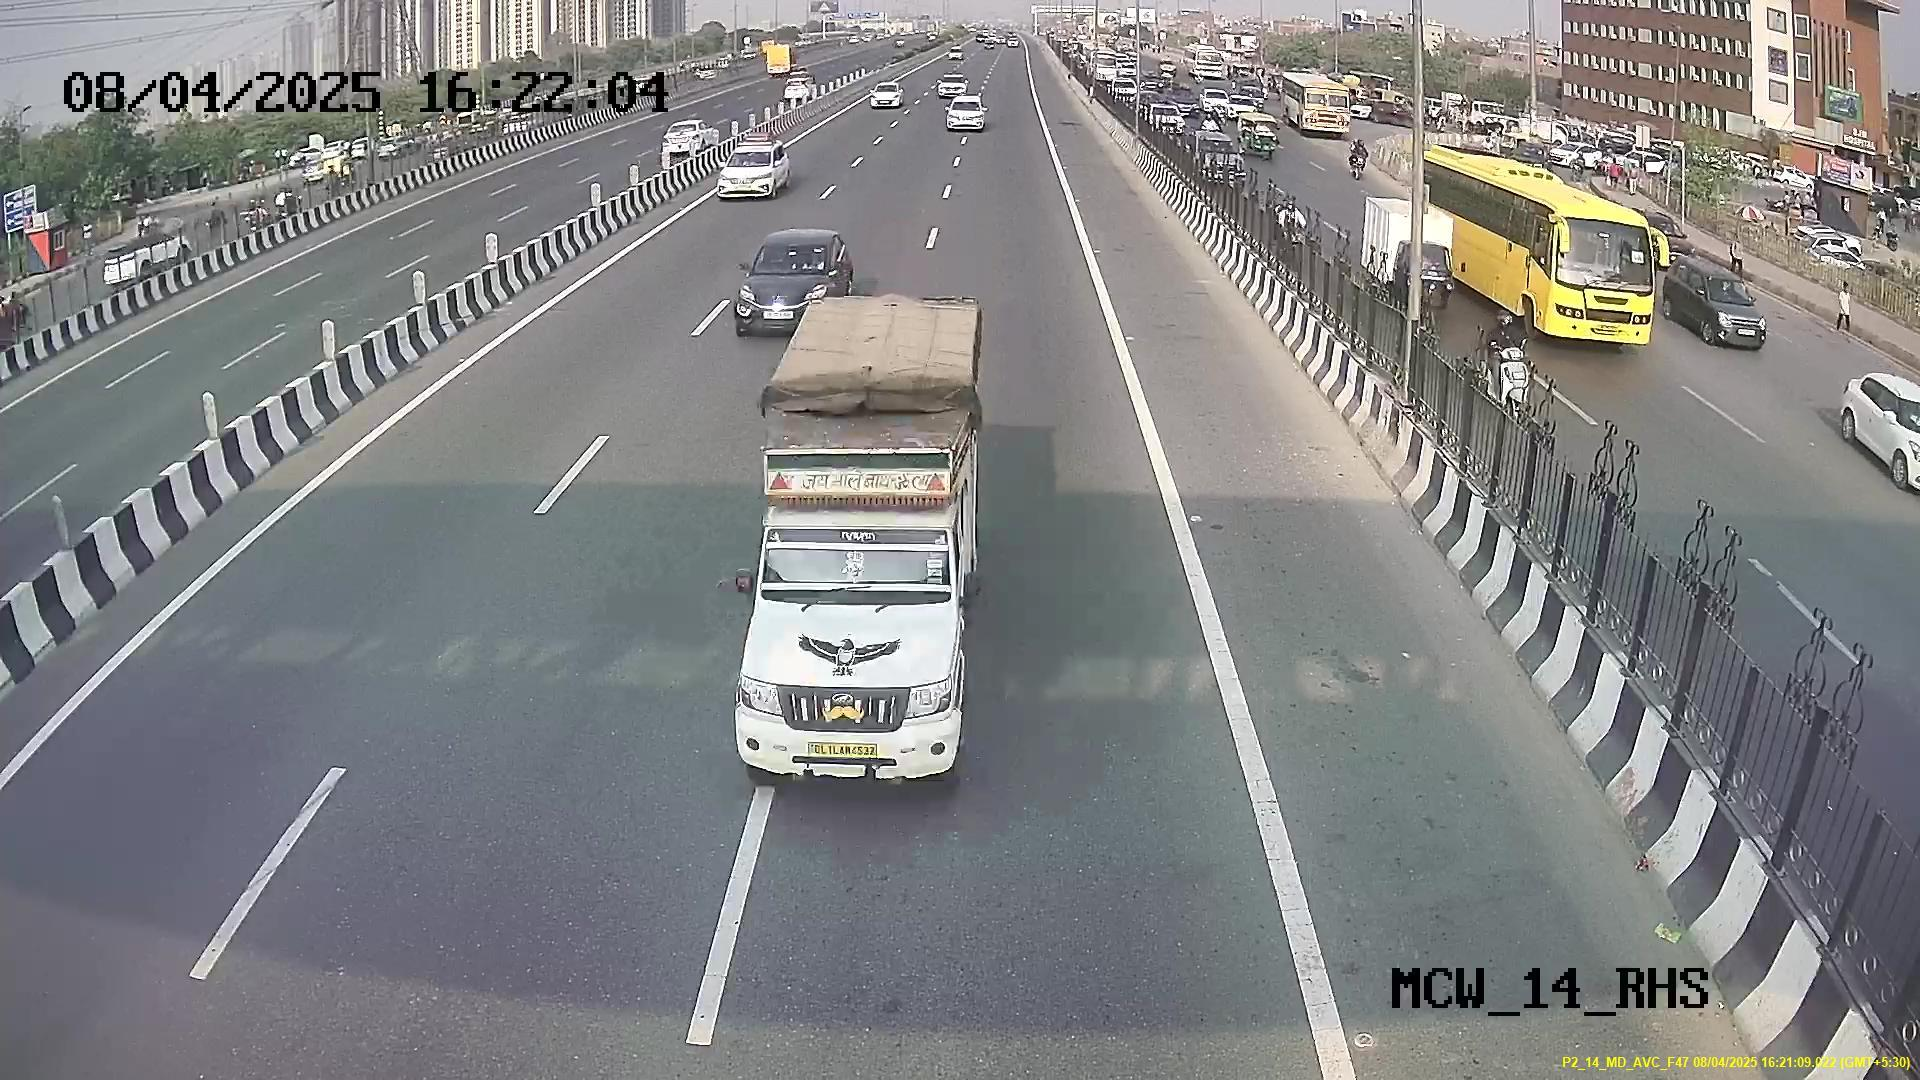car: (733, 459, 975, 795)
